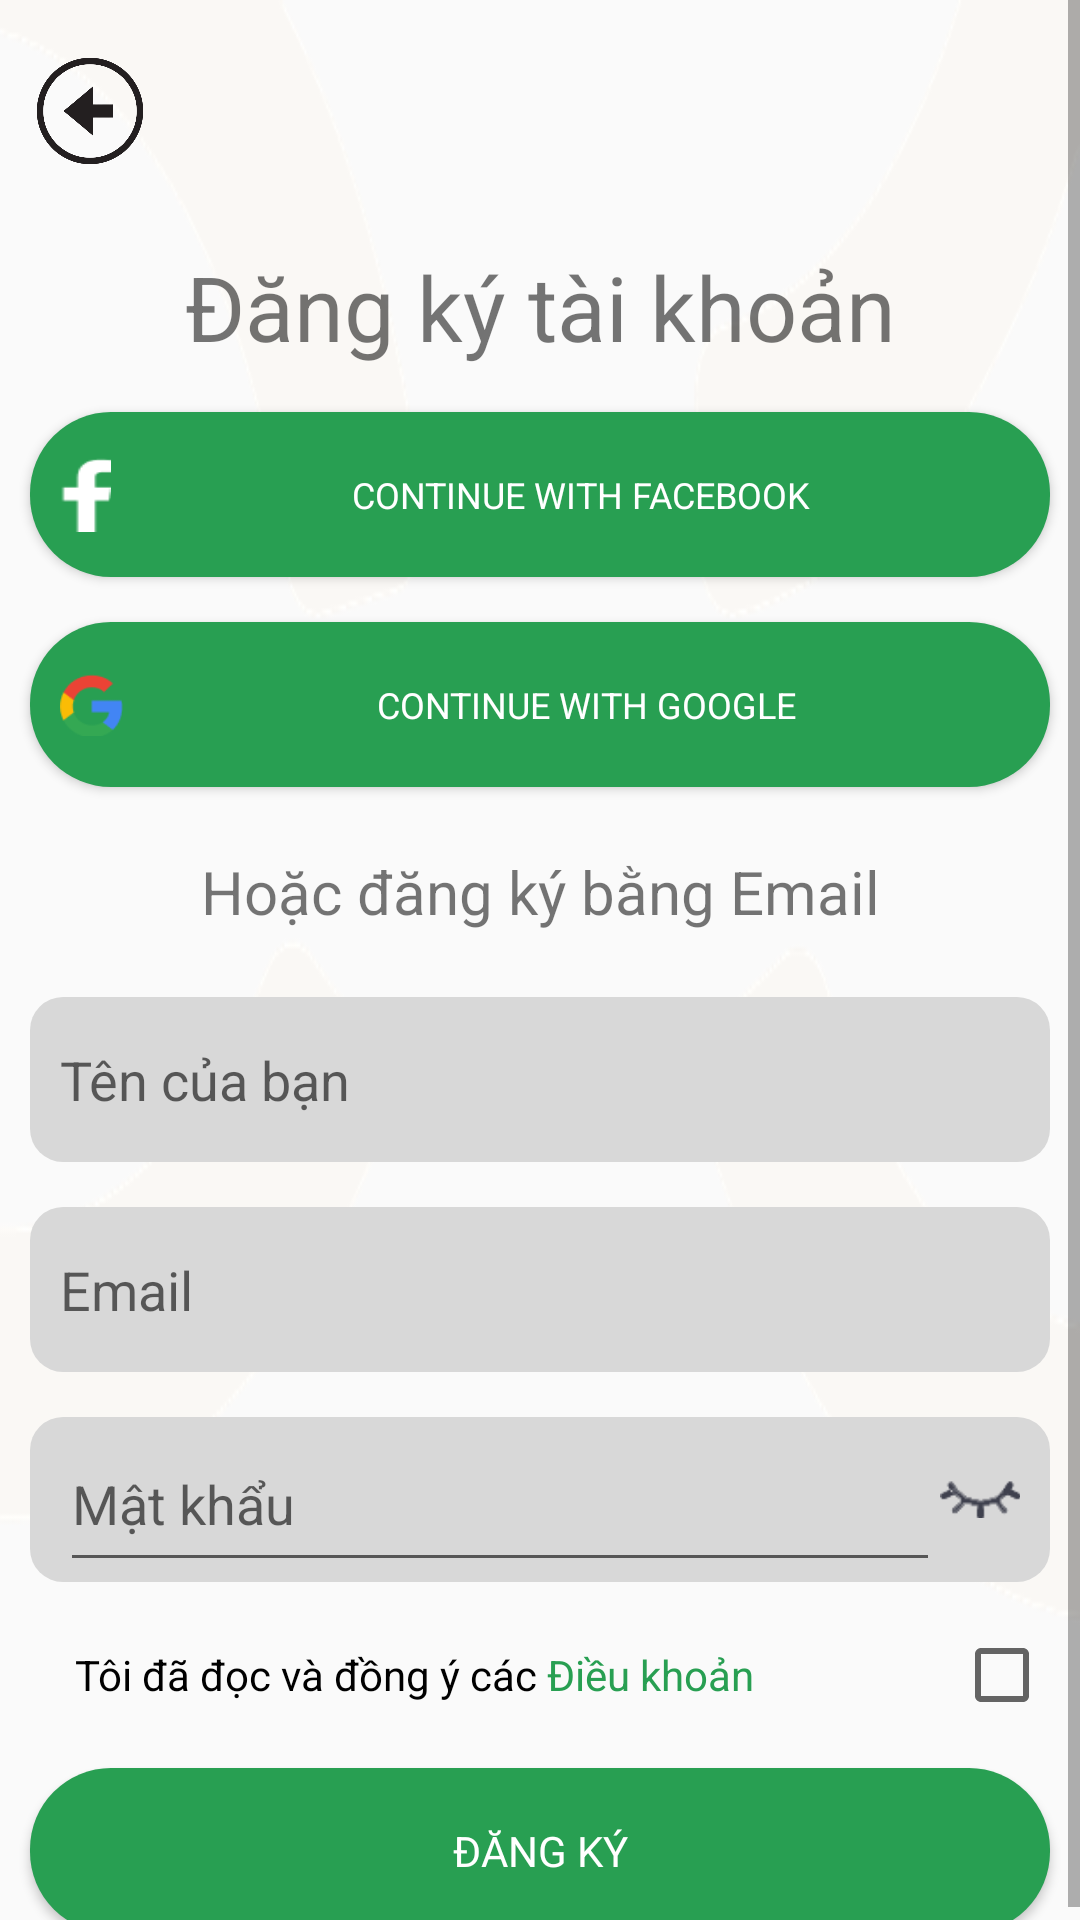

Screen size 1080w x 1920h. Icon name, then its box in pixels as [x1, y1, x2, y2]:
arrow left: [37, 58, 143, 164]
eyes: [940, 1481, 1020, 1518]
